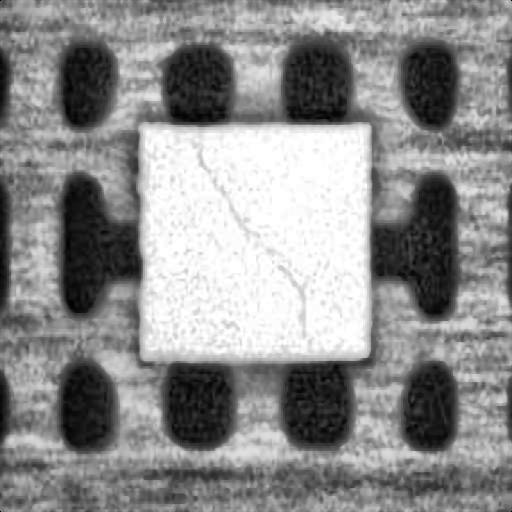DIE_CRACK: (191, 138, 308, 332)
